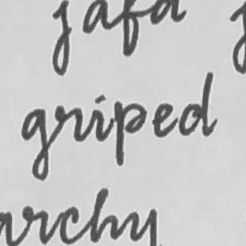d: (177, 70, 219, 139)
e: (151, 100, 176, 139)
g: (18, 106, 50, 183)
i: (88, 91, 108, 144)
p: (111, 98, 149, 169)
r: (53, 103, 85, 145)
